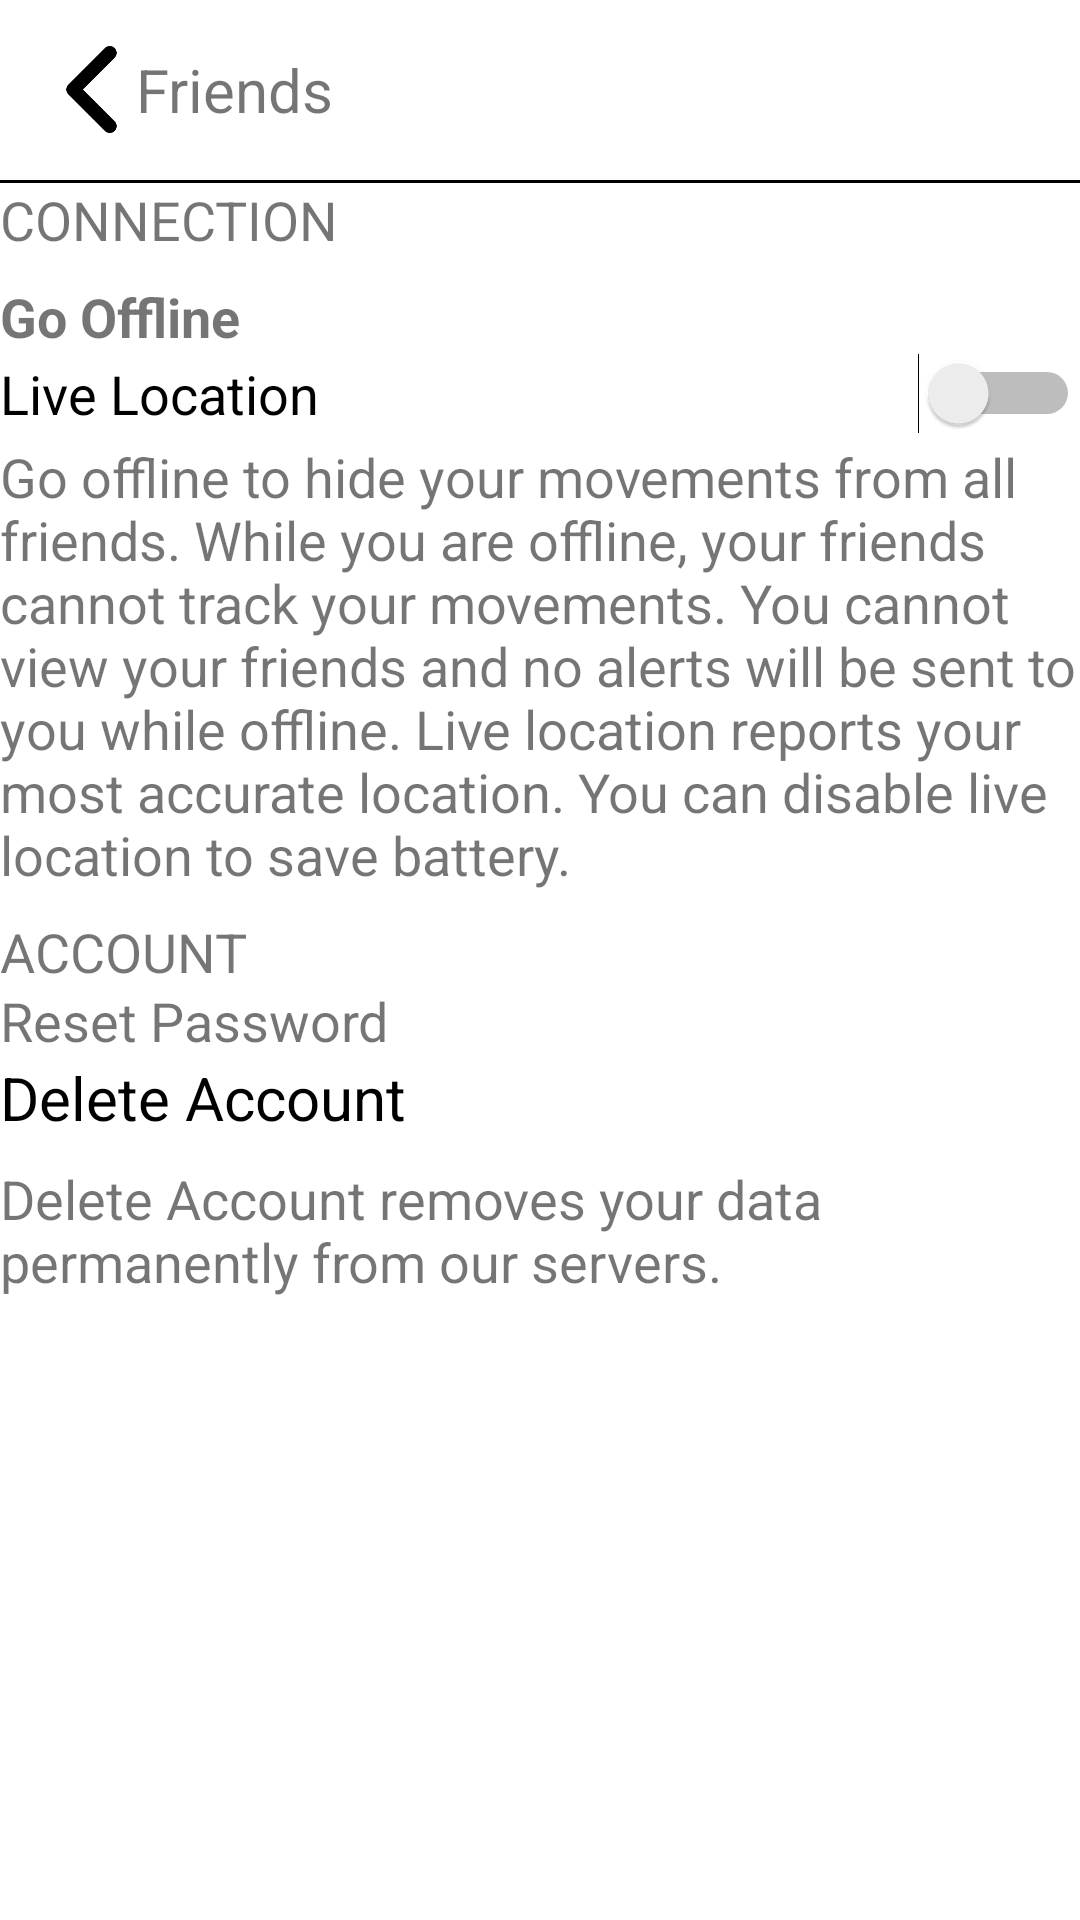

Icons on this 1080×1920 Android screen, each with its box as (x1, y1, x2, y2):
less than: (66, 46, 117, 133)
